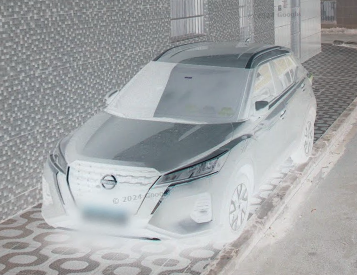car: (33, 40, 319, 236)
